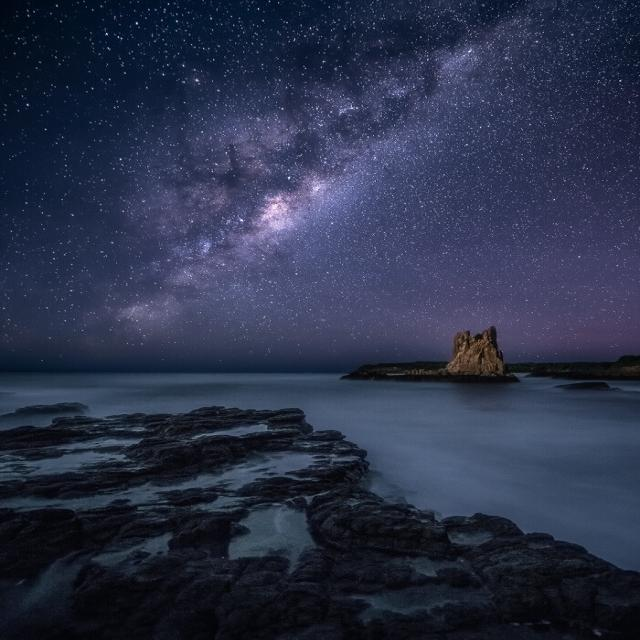reef: (34, 402, 640, 640)
